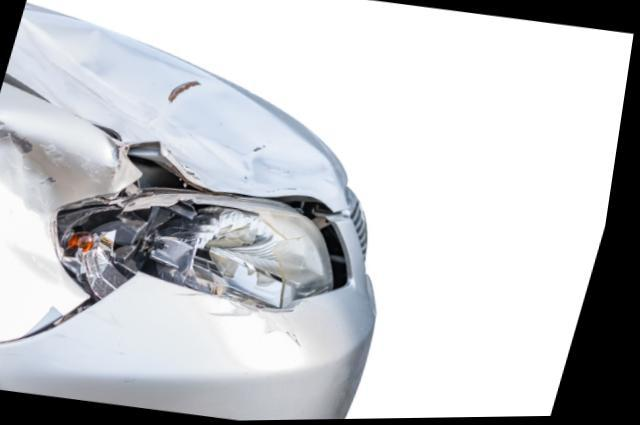dent: (9, 28, 343, 199), (0, 123, 124, 340)
lamp broken: (63, 189, 348, 310)
